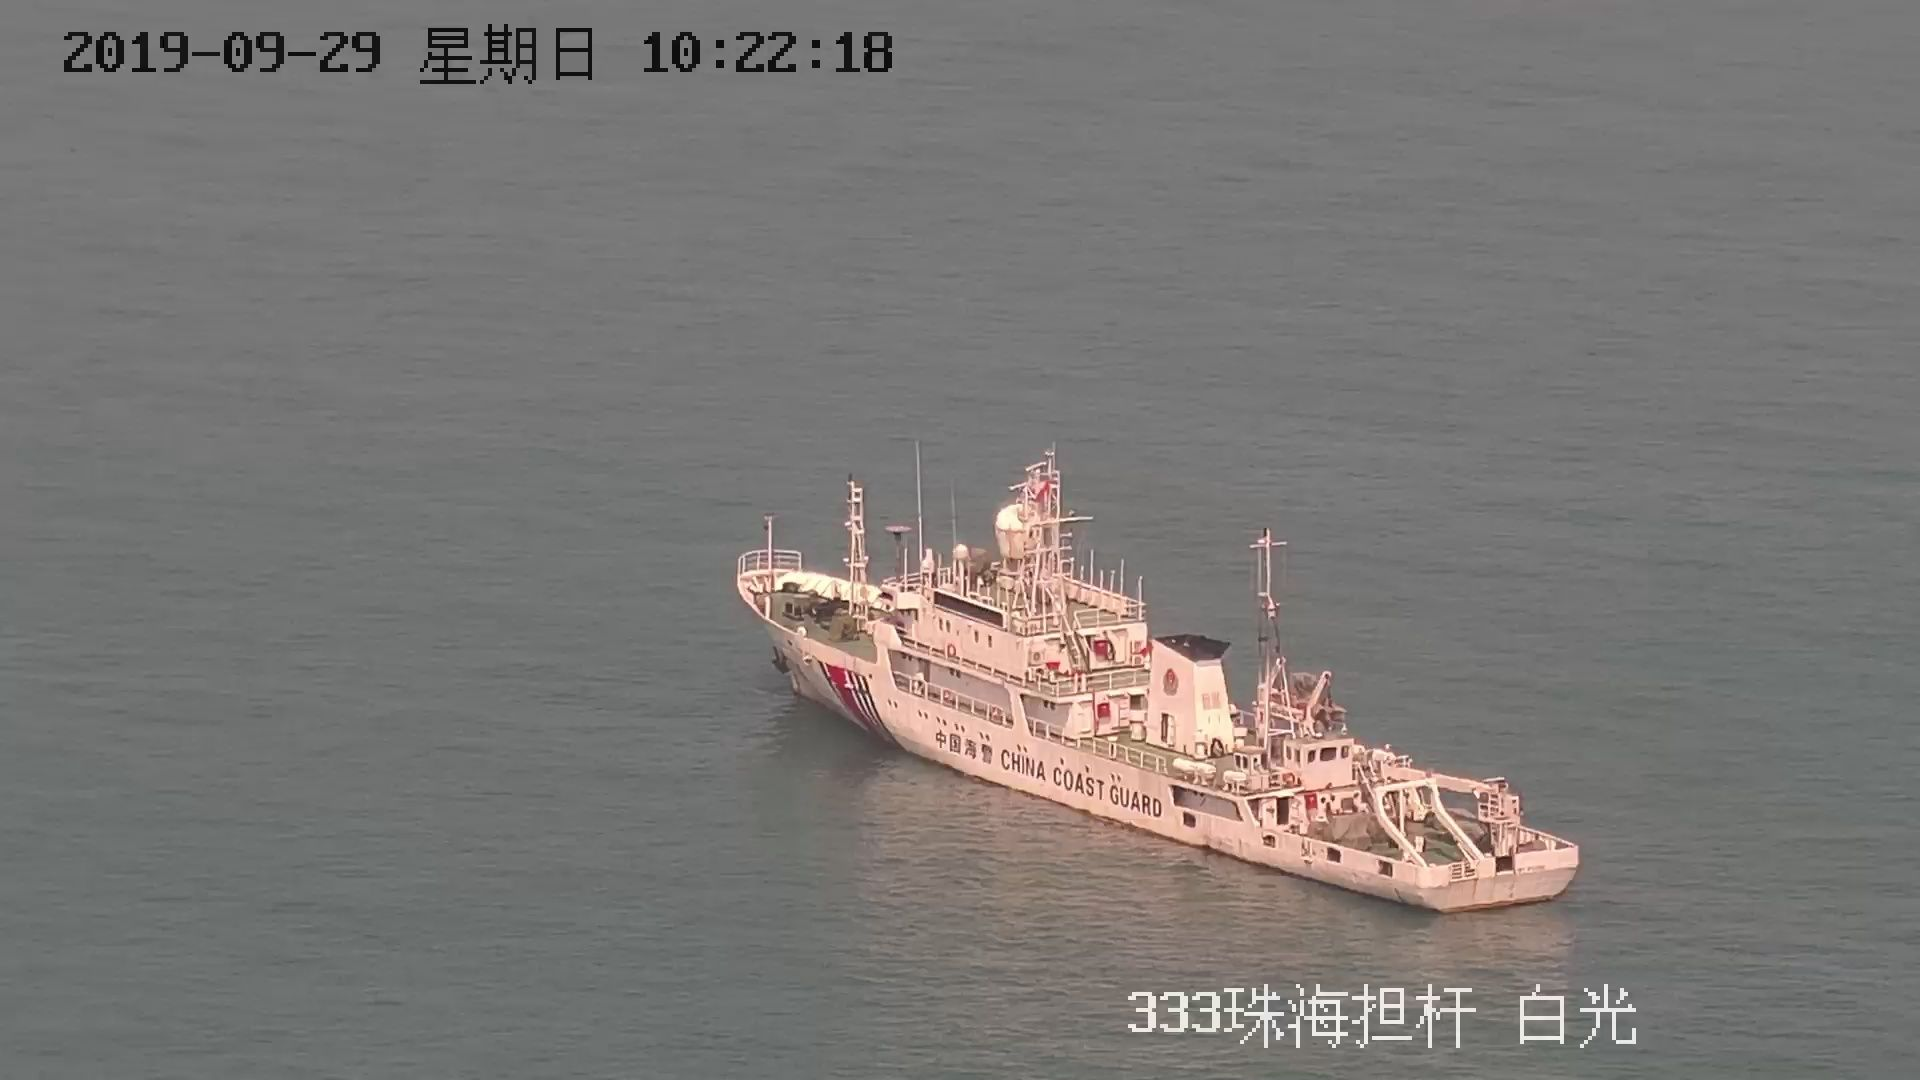ship: (732, 440, 1588, 913)
